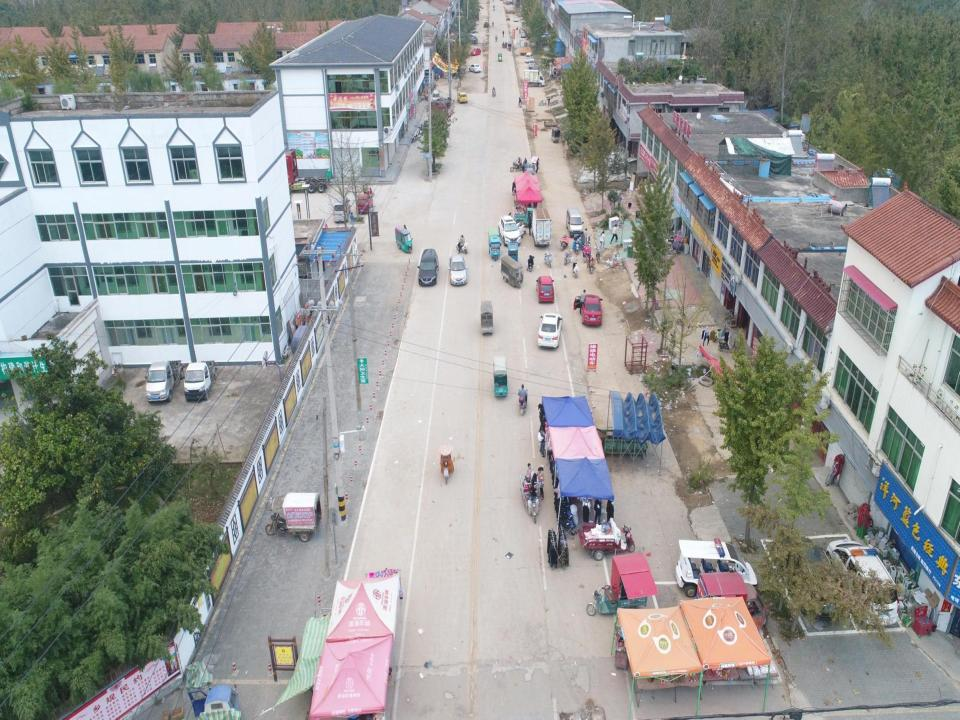car: (824, 536, 900, 626), (778, 531, 846, 624), (573, 292, 604, 326), (536, 311, 562, 349), (497, 214, 525, 248), (417, 248, 439, 286), (448, 254, 468, 285), (536, 275, 554, 304), (356, 193, 374, 214), (428, 97, 452, 111), (429, 99, 446, 113), (548, 66, 566, 78), (456, 89, 468, 105), (432, 89, 442, 103), (469, 63, 481, 73), (528, 57, 536, 69), (470, 48, 481, 56), (471, 37, 479, 45), (520, 30, 526, 37), (514, 14, 518, 22)
truck: (143, 356, 183, 402), (181, 358, 218, 403)
van: (565, 206, 583, 238), (332, 195, 350, 222), (525, 51, 534, 63)
